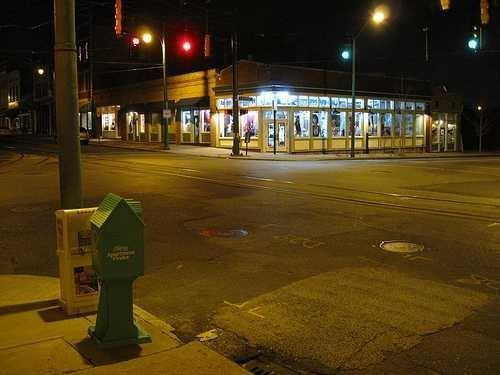2: (467, 24, 480, 53)
red traffic light: (469, 40, 476, 50)
